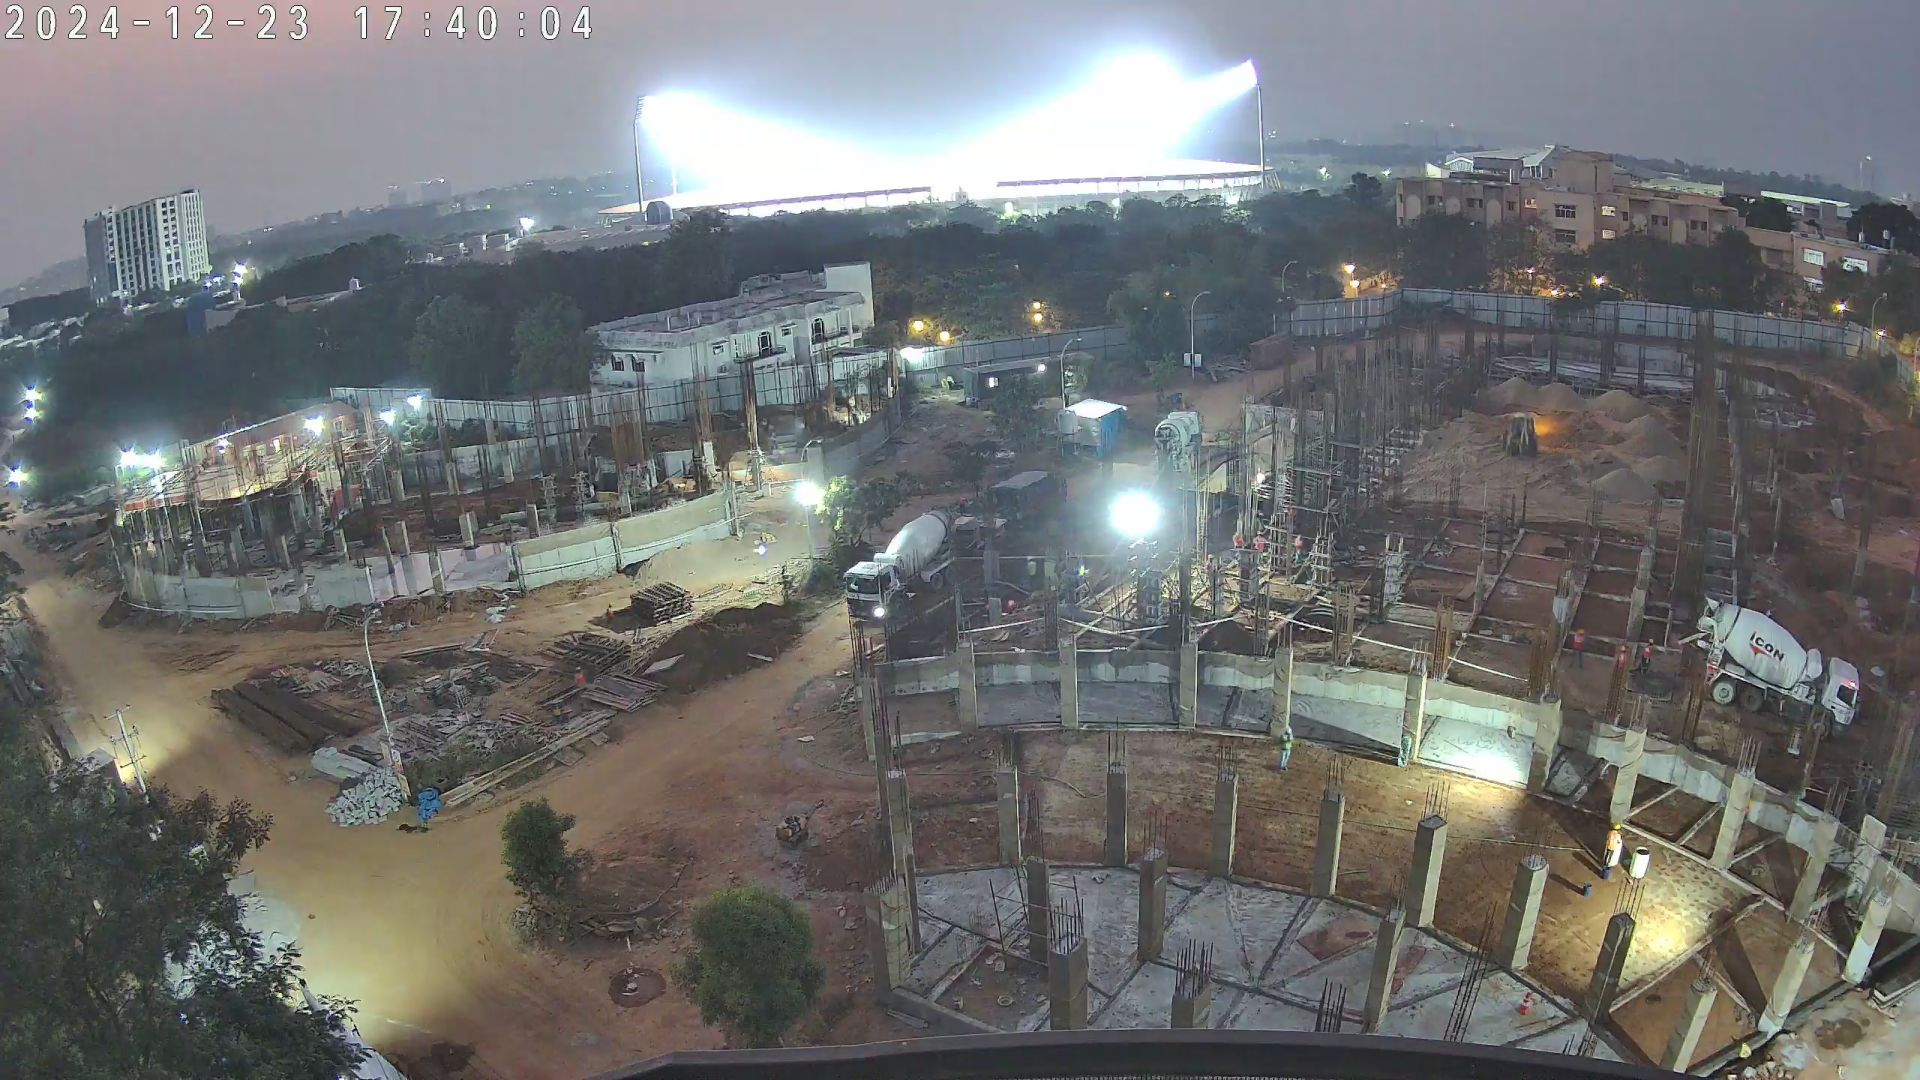truck: (1694, 596, 1860, 741), (847, 508, 951, 618), (985, 467, 1074, 527), (1150, 407, 1203, 474)
worker: (1604, 820, 1623, 881), (1247, 530, 1274, 566), (1569, 626, 1590, 671), (1279, 721, 1293, 778), (1640, 631, 1653, 683), (1226, 530, 1243, 566), (600, 601, 620, 630), (1616, 644, 1630, 681), (1401, 728, 1413, 768), (1289, 533, 1300, 571), (571, 664, 584, 696), (953, 494, 968, 515)
